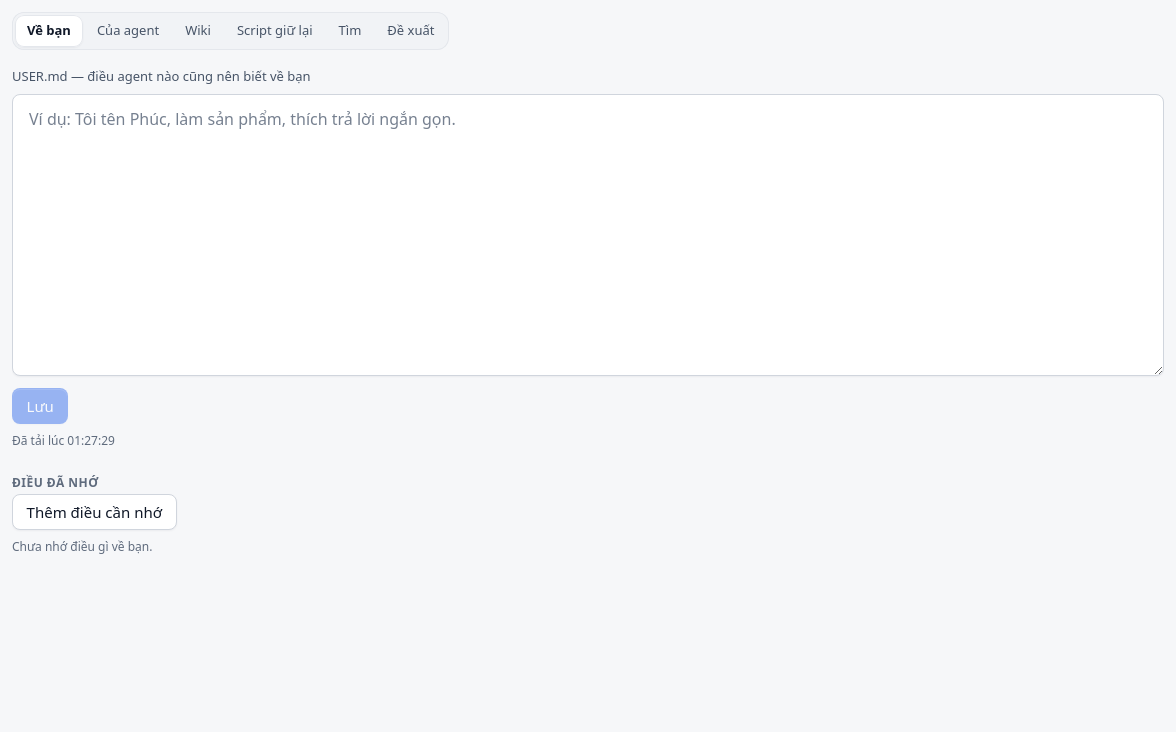
Test: the script store among the things the crew remembers › opens on the agent the screen is looking at, and writes that agent into the address
Click the tab "Script giữ lại" at (275, 31), box [225,15,325,47]
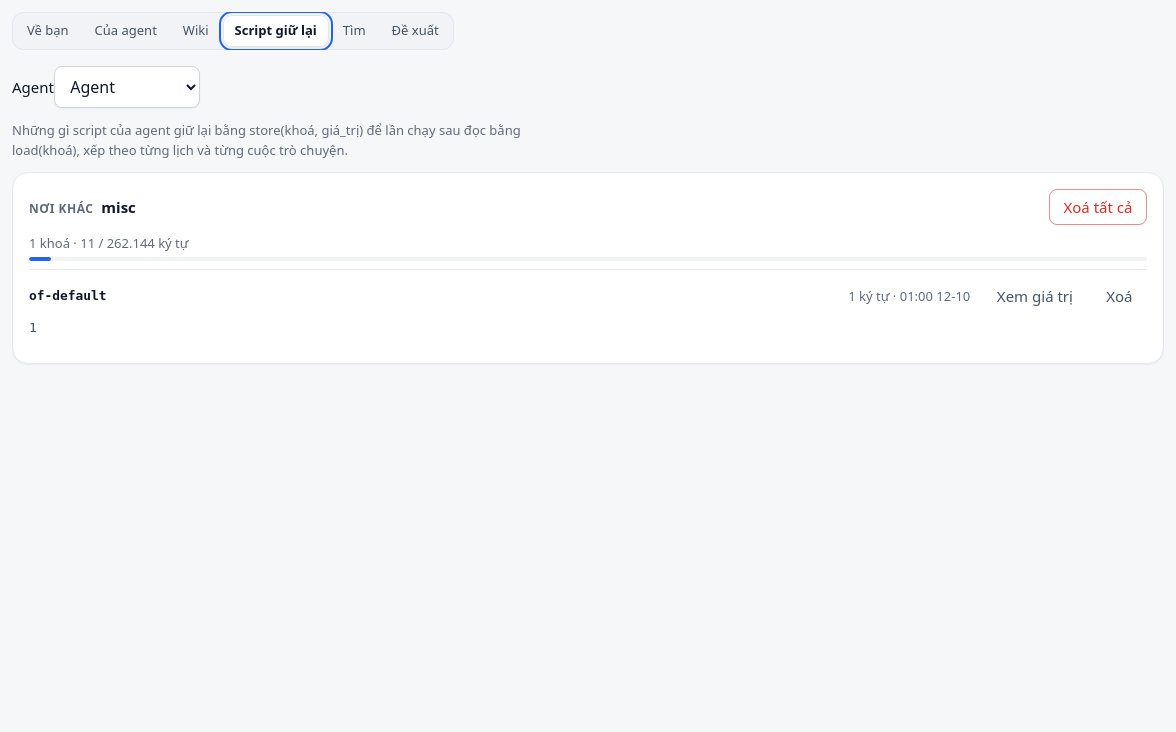
Expected: the dropdown labelled "Agent" shows "Agent", [54,66,200,108]
